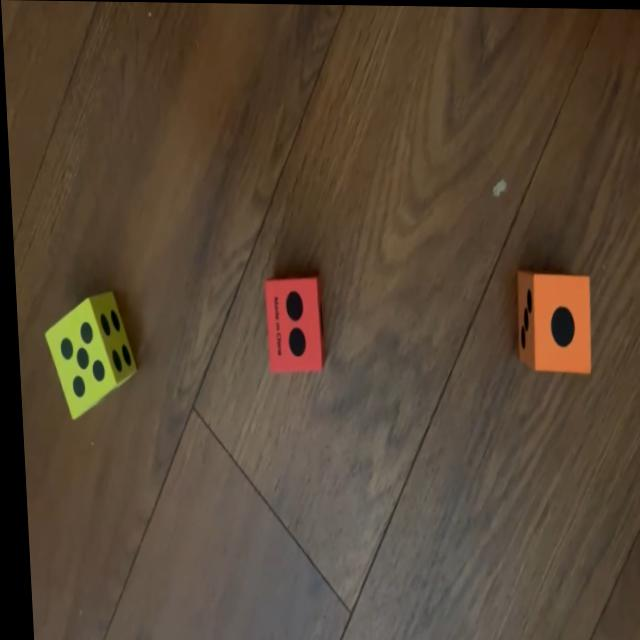cube: (261, 275, 321, 372)
